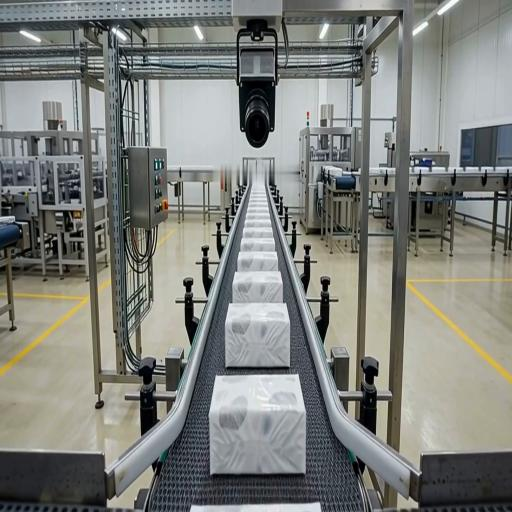good: (209, 372, 307, 477), (223, 301, 291, 370), (231, 270, 284, 303), (189, 501, 322, 512), (237, 250, 279, 271), (240, 237, 276, 251), (242, 227, 274, 237), (244, 218, 272, 226), (245, 212, 270, 218), (247, 206, 269, 212), (249, 197, 268, 202), (248, 202, 269, 206), (250, 193, 267, 197)
